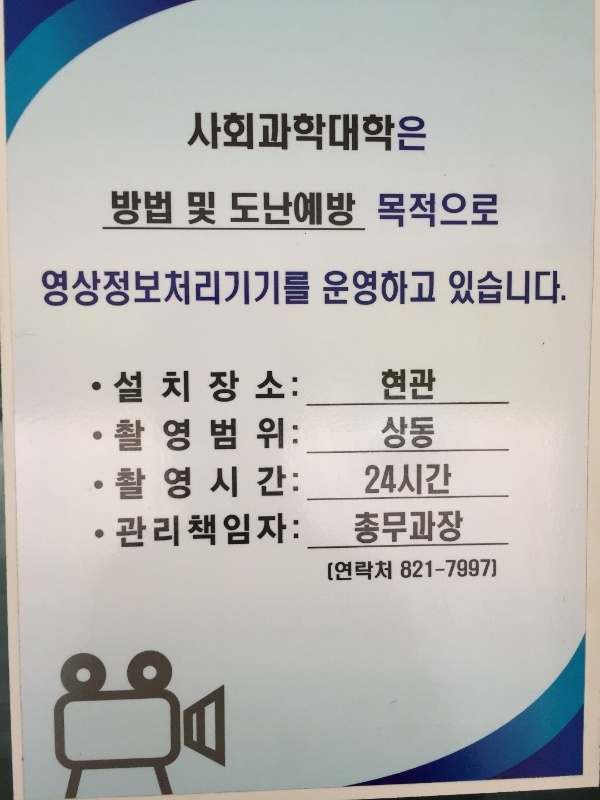text: (193, 109, 208, 155), (209, 109, 224, 155), (225, 109, 240, 155), (241, 109, 256, 155), (257, 109, 272, 155), (273, 109, 288, 155), (289, 109, 304, 155), (305, 109, 320, 155), (321, 109, 336, 155), (337, 109, 352, 155), (353, 109, 368, 155), (369, 109, 384, 155), (385, 109, 400, 155), (401, 109, 416, 155), (129, 511, 144, 552), (145, 511, 160, 552), (161, 511, 176, 552), (177, 511, 192, 552), (193, 511, 208, 552), (209, 511, 224, 552), (225, 511, 240, 552), (241, 511, 256, 552), (257, 511, 272, 552), (273, 511, 288, 552), (49, 268, 64, 309), (65, 268, 80, 309), (81, 268, 96, 309), (97, 268, 112, 309), (113, 268, 128, 309), (129, 268, 144, 309), (145, 268, 160, 309), (161, 268, 176, 309), (177, 268, 192, 309), (193, 268, 208, 309), (209, 268, 224, 309), (225, 268, 240, 309), (241, 268, 256, 309), (257, 268, 272, 309), (273, 268, 288, 309), (289, 268, 304, 309), (337, 269, 352, 310), (353, 269, 368, 310), (369, 269, 384, 310), (385, 269, 400, 310), (401, 269, 416, 310), (417, 269, 432, 310), (449, 267, 464, 308), (465, 267, 480, 308), (481, 267, 496, 308), (497, 267, 512, 308), (513, 267, 528, 308), (529, 267, 544, 308), (545, 267, 560, 308), (449, 509, 465, 546), (129, 464, 144, 503), (145, 464, 160, 503), (161, 464, 176, 503), (177, 464, 192, 503), (193, 464, 208, 503), (209, 464, 224, 503), (225, 464, 240, 503), (241, 464, 256, 503), (257, 464, 272, 503), (273, 464, 288, 503), (129, 416, 144, 455), (145, 416, 160, 455), (161, 416, 176, 455), (177, 416, 192, 455), (193, 416, 208, 455), (209, 416, 224, 455), (225, 416, 240, 455), (241, 416, 256, 455), (257, 416, 272, 455), (273, 416, 288, 455), (385, 191, 400, 230), (401, 191, 416, 230), (417, 191, 432, 230), (433, 191, 448, 230), (449, 191, 464, 230), (465, 191, 480, 230), (481, 191, 496, 230), (129, 369, 144, 407), (145, 369, 160, 407), (161, 369, 176, 407), (177, 369, 192, 407), (193, 369, 208, 407), (209, 369, 224, 407), (225, 369, 240, 407), (241, 369, 256, 407), (257, 369, 272, 407), (273, 369, 288, 407), (385, 414, 400, 452), (401, 414, 416, 452), (417, 414, 432, 452), (385, 366, 400, 404), (401, 366, 416, 404), (417, 366, 432, 404), (369, 509, 384, 546), (385, 509, 400, 546), (401, 509, 416, 546), (417, 509, 432, 546), (433, 509, 448, 546), (115, 511, 128, 552), (323, 269, 336, 310), (114, 369, 128, 407), (369, 462, 384, 497), (385, 462, 400, 497), (401, 462, 416, 497), (417, 462, 432, 497), (433, 462, 448, 497), (354, 509, 368, 546), (115, 416, 128, 455), (417, 109, 428, 155), (289, 511, 301, 552), (116, 464, 128, 503), (481, 556, 497, 583), (289, 464, 300, 503), (337, 558, 352, 586), (353, 558, 368, 586), (369, 558, 384, 586), (401, 556, 416, 583), (417, 556, 432, 583), (433, 556, 448, 583), (449, 556, 464, 583), (465, 556, 480, 583), (289, 416, 299, 455), (289, 369, 299, 407), (41, 268, 48, 309), (305, 268, 311, 309), (378, 191, 384, 230), (328, 558, 336, 586), (385, 558, 393, 586), (561, 267, 566, 308), (433, 269, 437, 310), (433, 366, 437, 404), (364, 462, 368, 497), (449, 462, 453, 497), (189, 109, 192, 155), (381, 414, 384, 452), (433, 414, 436, 452), (381, 366, 384, 404), (497, 191, 499, 230)
